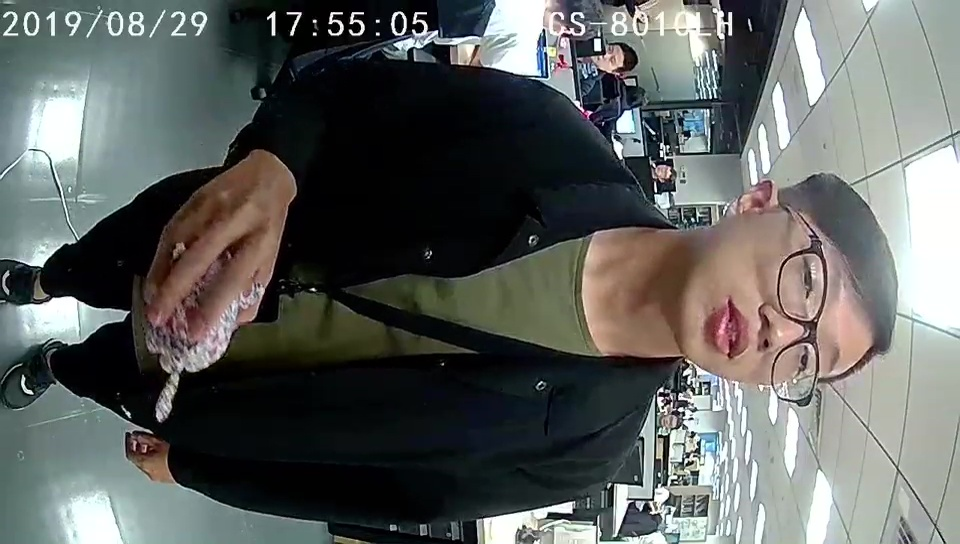pig: (149, 279, 264, 375)
